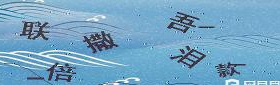chinese: (84, 26, 120, 53), (169, 8, 199, 37), (170, 46, 206, 70), (20, 19, 49, 46), (42, 61, 79, 81), (215, 61, 244, 81)
